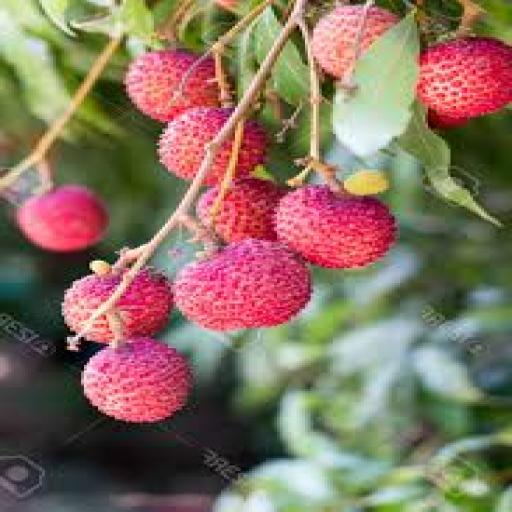lychee: (173, 239, 309, 331), (274, 187, 393, 268), (81, 337, 189, 422), (416, 38, 511, 119), (125, 51, 217, 122), (310, 6, 396, 78), (16, 185, 105, 251), (195, 179, 284, 242), (159, 108, 231, 180), (61, 270, 124, 333), (425, 110, 469, 130), (212, 0, 236, 11)
